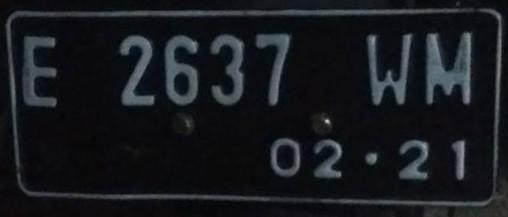2: (99, 33, 162, 110)
3: (201, 31, 250, 109)
6: (159, 31, 205, 110)
7: (246, 30, 301, 110)
E: (17, 38, 72, 108)
M: (416, 29, 478, 107)
W: (358, 30, 419, 110)
